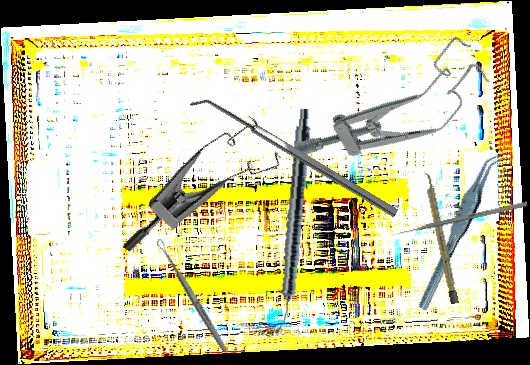Handpiece: (272, 108, 314, 335)
Pusher: (389, 201, 528, 238)
Scalpel Handle: (423, 171, 459, 305)
Spatula Surgical: (189, 89, 399, 226)
Speculum: (286, 31, 500, 196), (120, 95, 293, 295)
Surgical Spoon: (154, 237, 230, 354)
Tissue Forceps: (400, 149, 518, 312)
